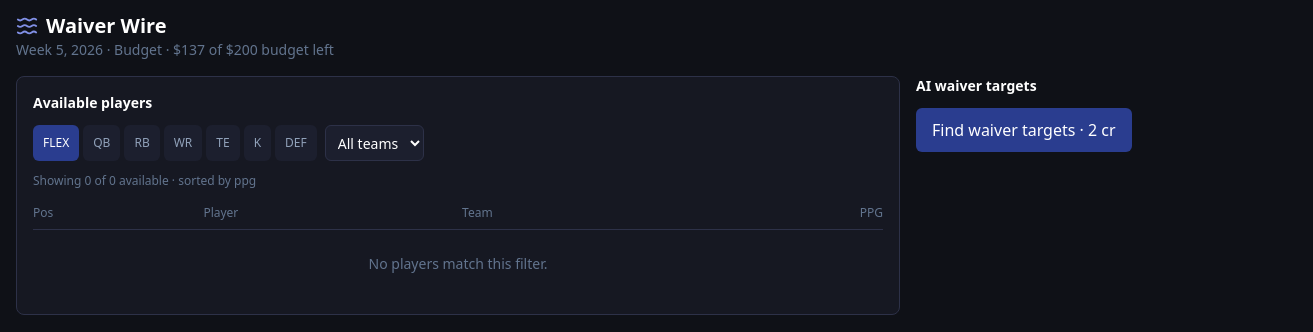
Test: Waiver page — the recommendation panel labels assumed money › adds no caveat when the league's real budget was read
The image size is (1313, 332).
Click the button "Find waiver targets · 2 cr": [1024, 130] box [916,108,1132,152]
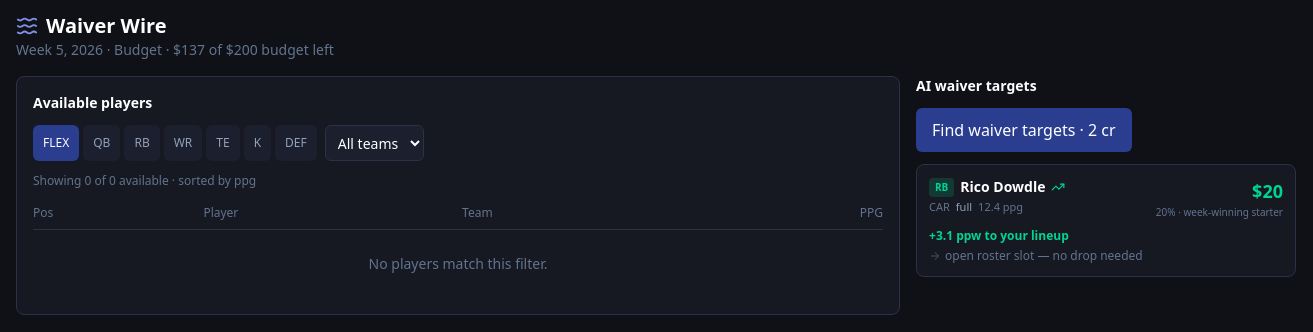
Check: the text "$20" is shown, box [1252,179,1283,203]
